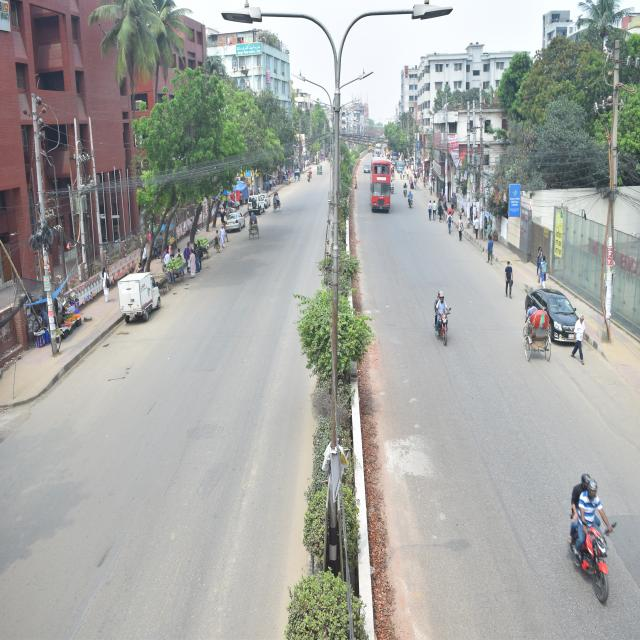bus: (366, 143, 398, 230)
car: (524, 277, 602, 365), (220, 195, 246, 241), (243, 189, 277, 220)
motorbike: (552, 450, 625, 609), (425, 282, 466, 346), (402, 177, 416, 222), (306, 162, 313, 188)
pickup-van: (102, 259, 172, 329)
